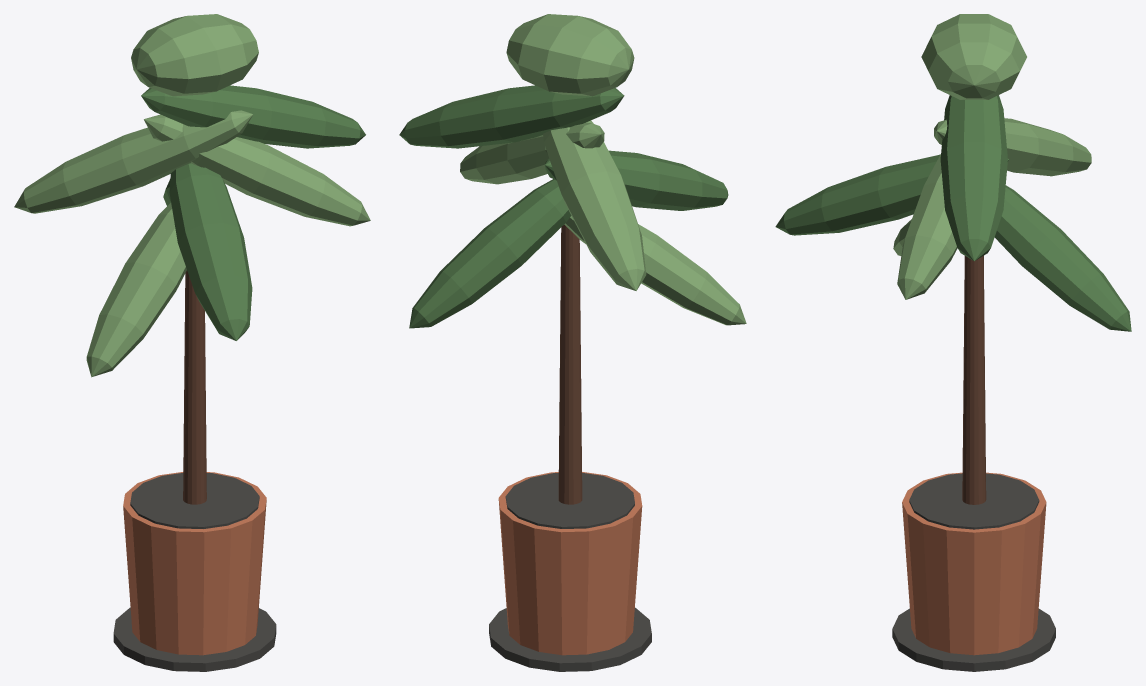
The model's file is sc_potted_plant.glb.
3 views of the same model, side by side, from view 1: azimuth 30°, elevation 25°; view 2: azimuth 150°, elevation 25°; view 3: azimuth 270°, elevation 25° (orthographic).
Visible parts, largest first — view 1: potted_plant; view 2: potted_plant; view 3: potted_plant.
Boxes of the visible parts, <box> form: potted_plant: <box>14,14,370,671</box>; potted_plant: <box>399,14,746,671</box>; potted_plant: <box>775,14,1131,671</box>.
Size of the model in its own units: 0.7438 by 1.41 by 0.74.
